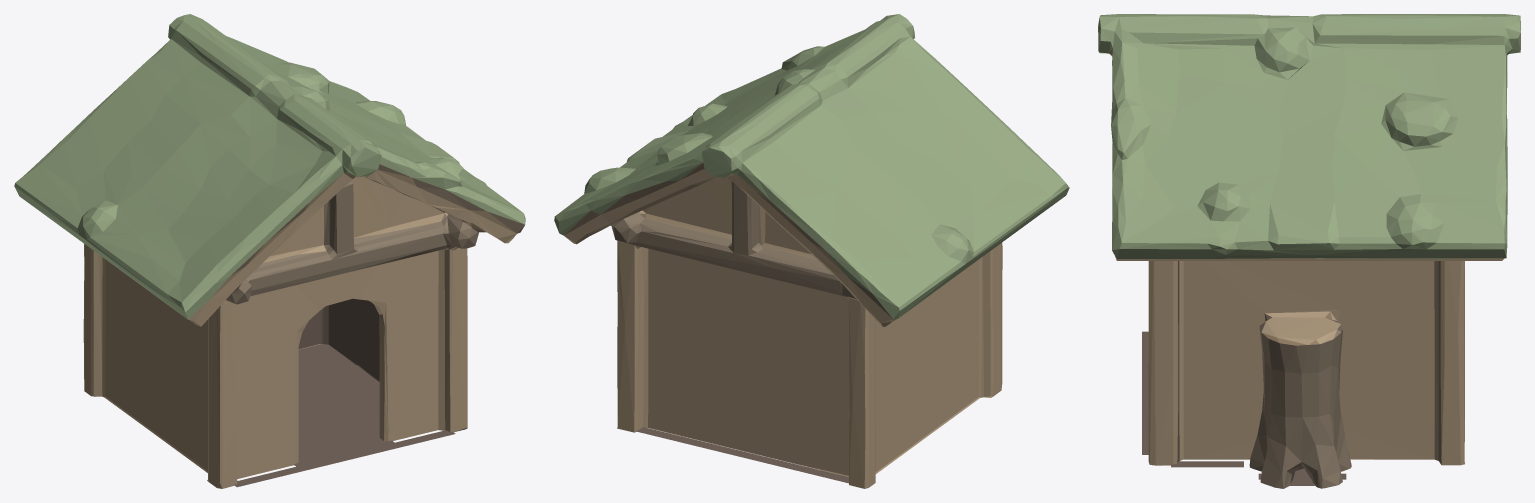
The picture shows the model from 3 angles, left to right: view 1: azimuth 30°, elevation 25°; view 2: azimuth 150°, elevation 25°; view 3: azimuth 270°, elevation 25°; orthographic projection. The views are drawn at different scales.
Parts seen in each view (by area): view 1: geometry_0; view 2: geometry_0; view 3: geometry_0.
Boxes of the visible parts, x1=… form: geometry_0: x1=14, y1=14, x2=525, y2=488; geometry_0: x1=554, y1=14, x2=1069, y2=488; geometry_0: x1=1098, y1=14, x2=1520, y2=488.
Bounding box in the file's own units: 1 × 0.8984 × 0.9073.
